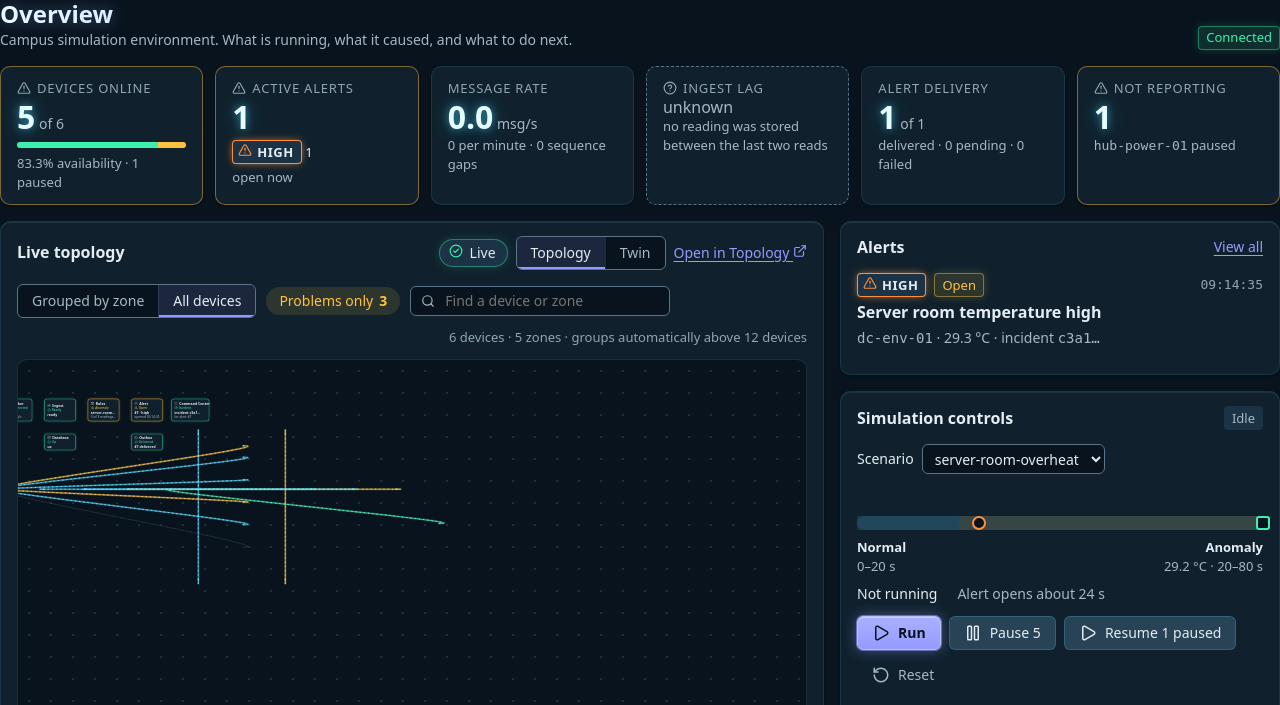
it: the controls › ask before running over what is already playing, and repeat the run with replace on a yes
This screenshot has width=1280, height=705.
Step 1. Click the button "Run" → [899, 634], box 857,616 -> 941,650
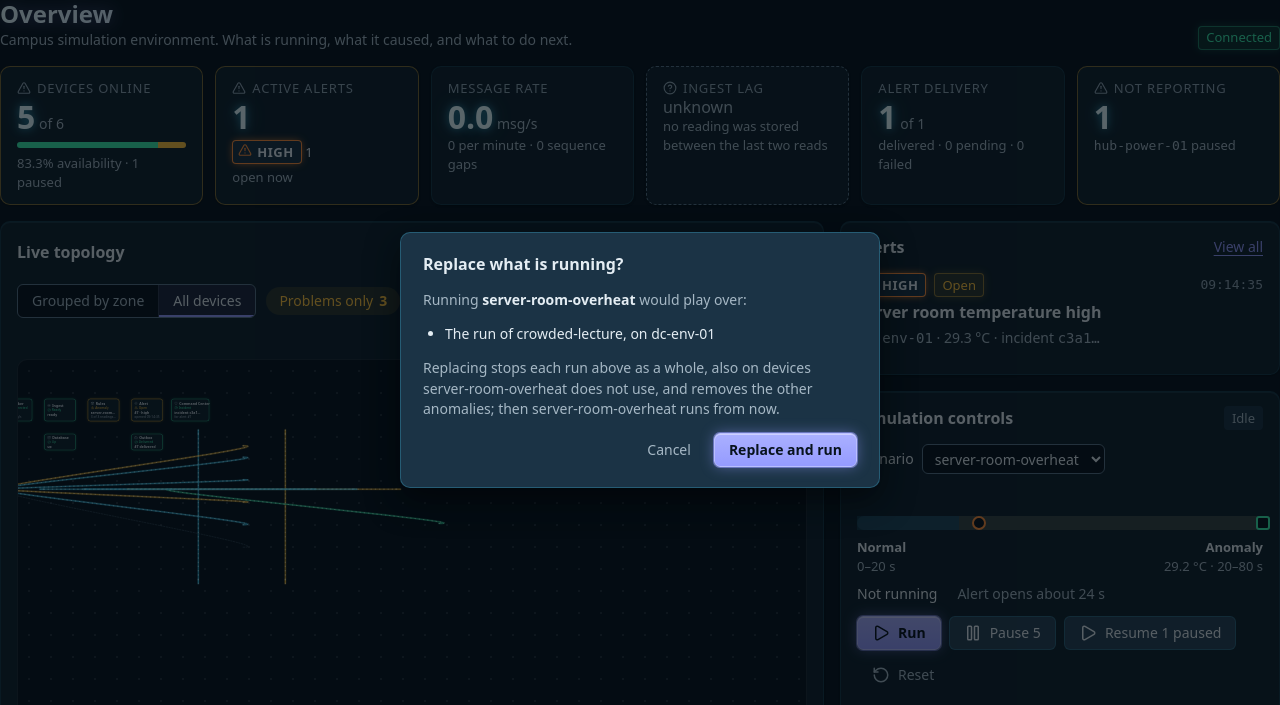
expect the dialog "Replace what is running?" shows "The run of crowded-lecture": met, box 445,324 -> 715,343
Step 2. Click the button "Replace and run" → [785, 450], box 714,433 -> 857,467
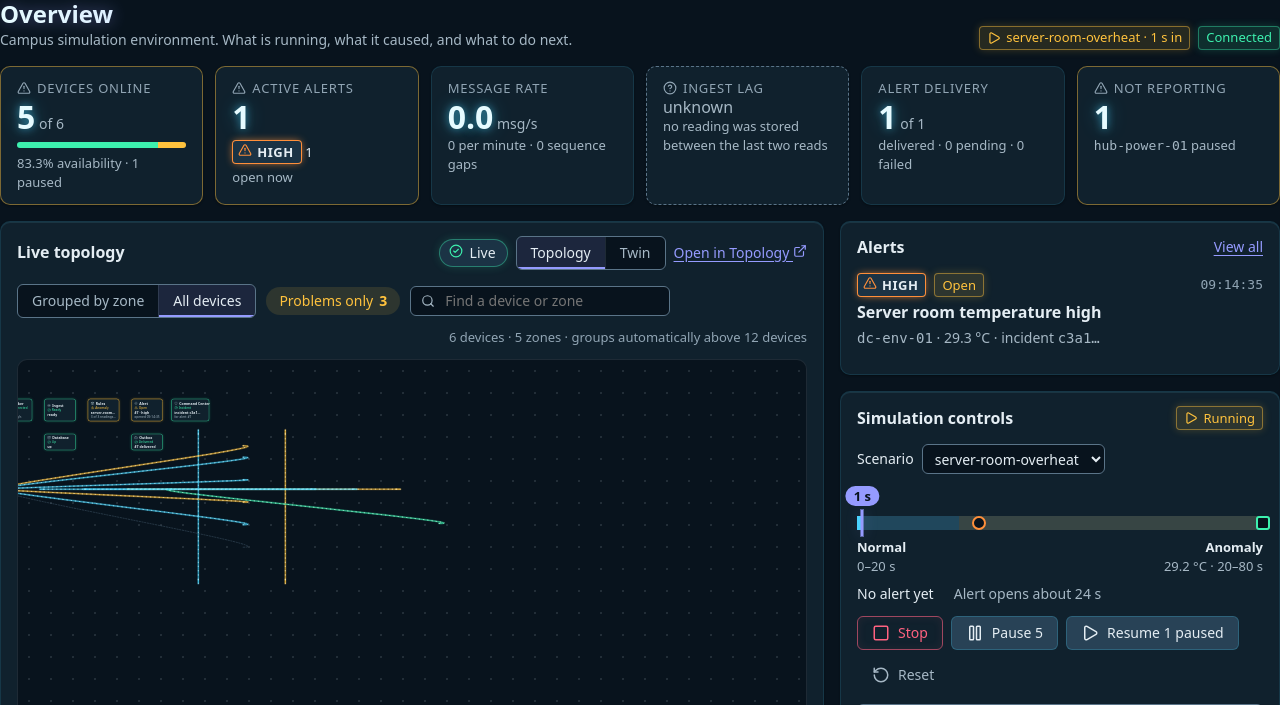
expect the button with aria-label "Stop server-room-overheat" is shown: met, box 857,616 -> 943,650
